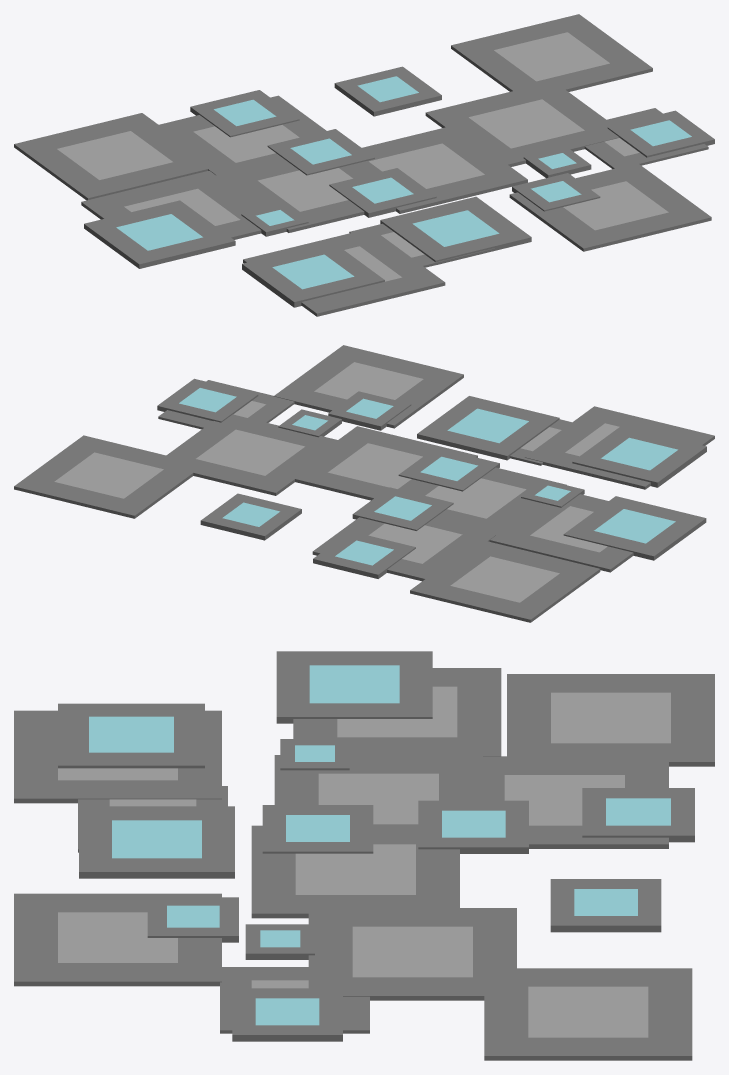
Rendered from ColorPatch2.fbx.
The picture shows the model from 3 angles, top to bottom: view 1: azimuth 30°, elevation 25°; view 2: azimuth 150°, elevation 25°; view 3: azimuth 270°, elevation 25°; orthographic projection. The views are drawn at different scales.
Parts seen in each view (by area): view 1: polySurface24; view 2: polySurface24; view 3: polySurface24.
Boxes of the visible parts, <box> form: polySurface24: <box>14,14,714,316</box>; polySurface24: <box>14,345,714,622</box>; polySurface24: <box>14,651,714,1060</box>.
Size of the model in its own units: 68.82 by 0.6318 by 50.59.
